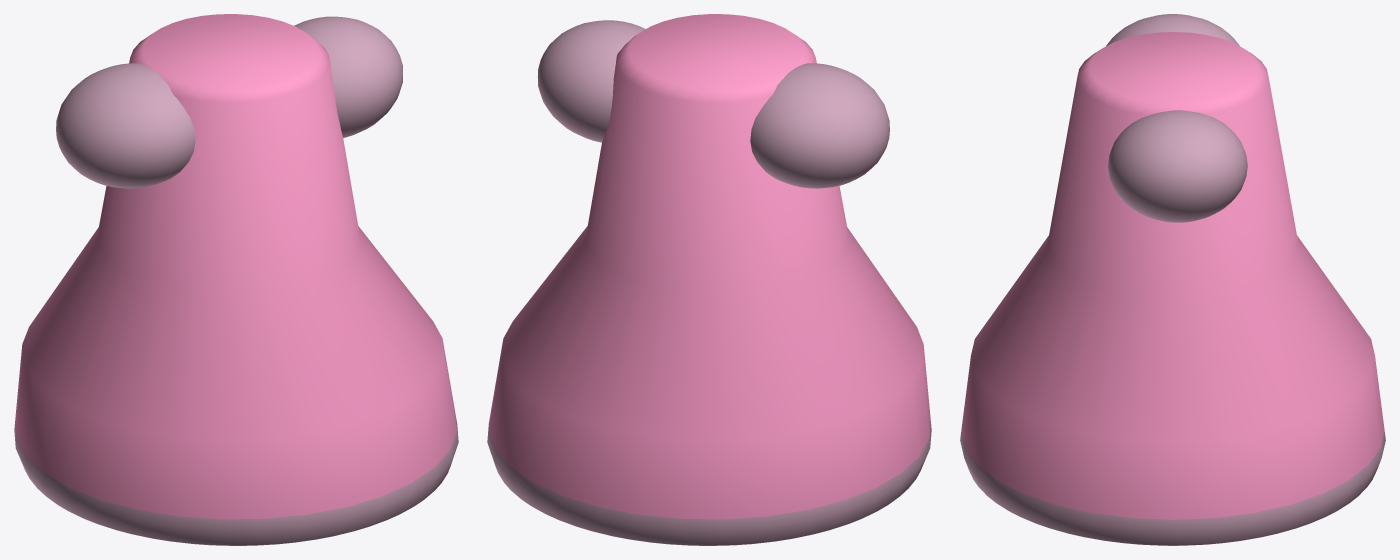
The model's file is dress.fbx.
The picture shows the model from 3 angles, left to right: view 1: azimuth 30°, elevation 25°; view 2: azimuth 150°, elevation 25°; view 3: azimuth 270°, elevation 25°; orthographic projection. The views are drawn at different scales.
Visible parts, largest first — view 1: Cilindro.030; view 2: Cilindro.030; view 3: Cilindro.030.
Boxes of the visible parts, x1=… form: Cilindro.030: x1=14, y1=14, x2=458, y2=545; Cilindro.030: x1=487, y1=14, x2=931, y2=545; Cilindro.030: x1=960, y1=14, x2=1385, y2=545.
Size of the model in its own units: 219 by 226 by 219.
